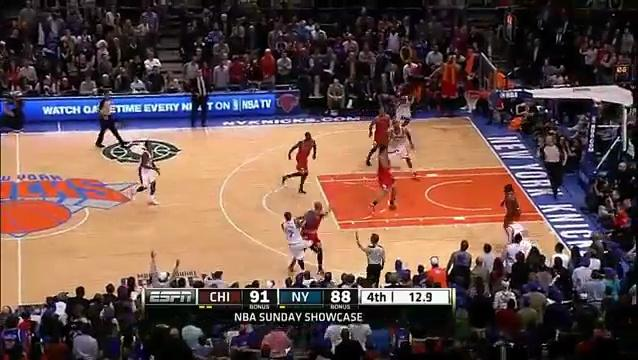Backboard: (479, 52, 497, 110)
Made Basket: (462, 90, 485, 109)
Person: (276, 207, 309, 278), (128, 139, 162, 207), (281, 131, 317, 195), (368, 144, 399, 215), (300, 201, 328, 272), (392, 118, 420, 177), (366, 106, 391, 168), (499, 181, 522, 226), (393, 89, 416, 130), (504, 213, 530, 248)
Referee: (539, 130, 568, 198), (352, 232, 386, 285), (95, 92, 126, 150)
Shot Clock: (613, 64, 630, 81), (504, 13, 515, 38)
